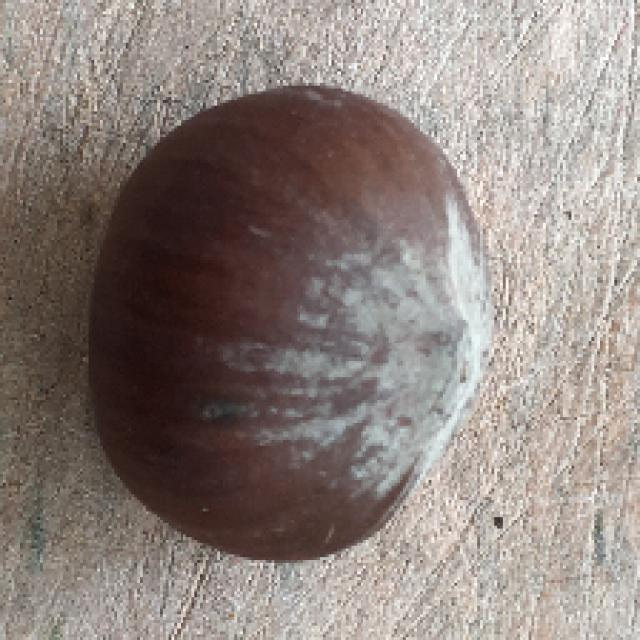DamagedHazelnut: (93, 83, 504, 566)
